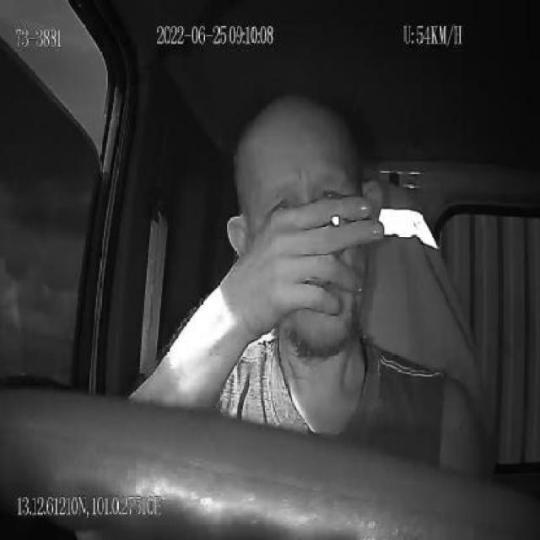smoking: (329, 209, 350, 227)
